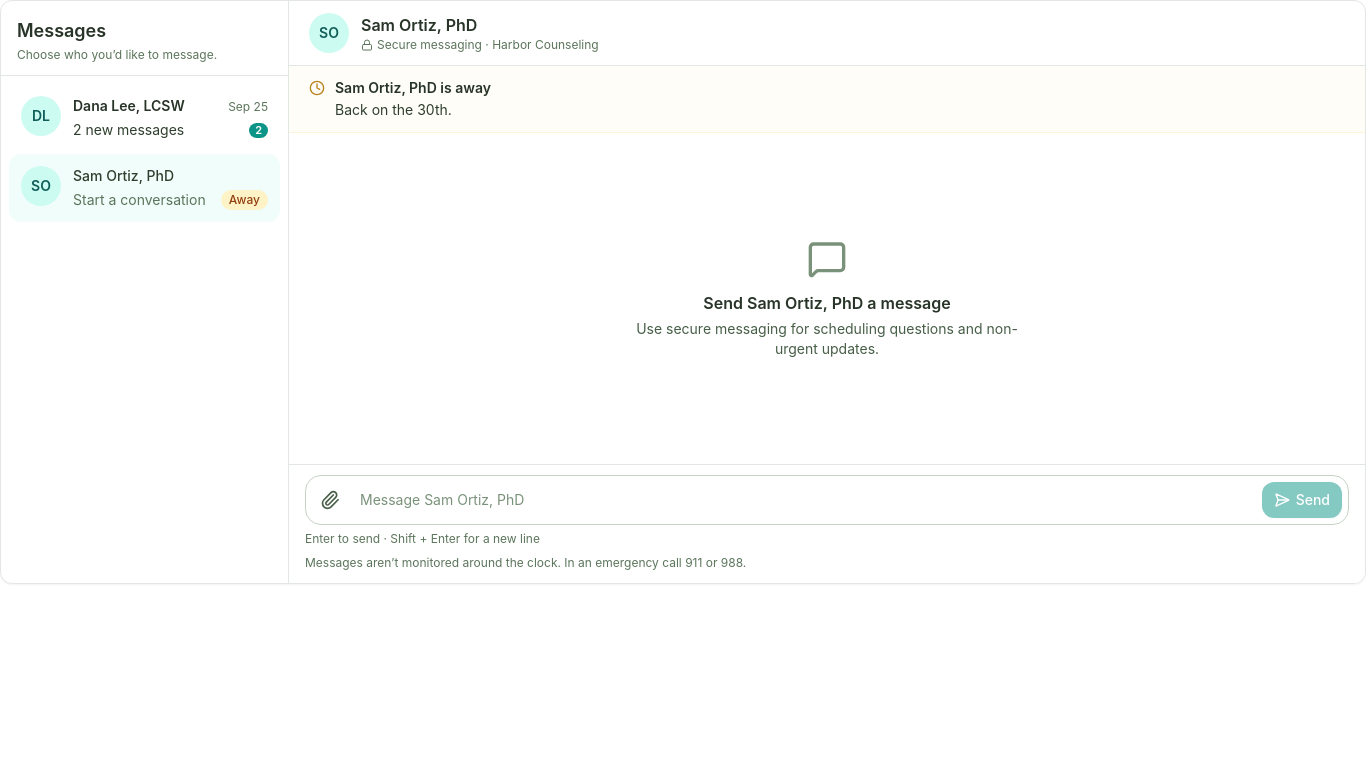
Scenario: ClientMessagesPage › with several clinicians › starts a conversation with a care-team clinician on the first message
expect the heading "Send Sam Ortiz, PhD a message" is shown: met, box [703,290,951,314]
expect the text "Sam Ortiz, PhD is away" is shown: met, box [335,78,491,98]
Type "Hello Dr. Ortiz" into the text box labelled "Message". click: (805, 500)
box: [354,482,1256,518]
Then press Enter
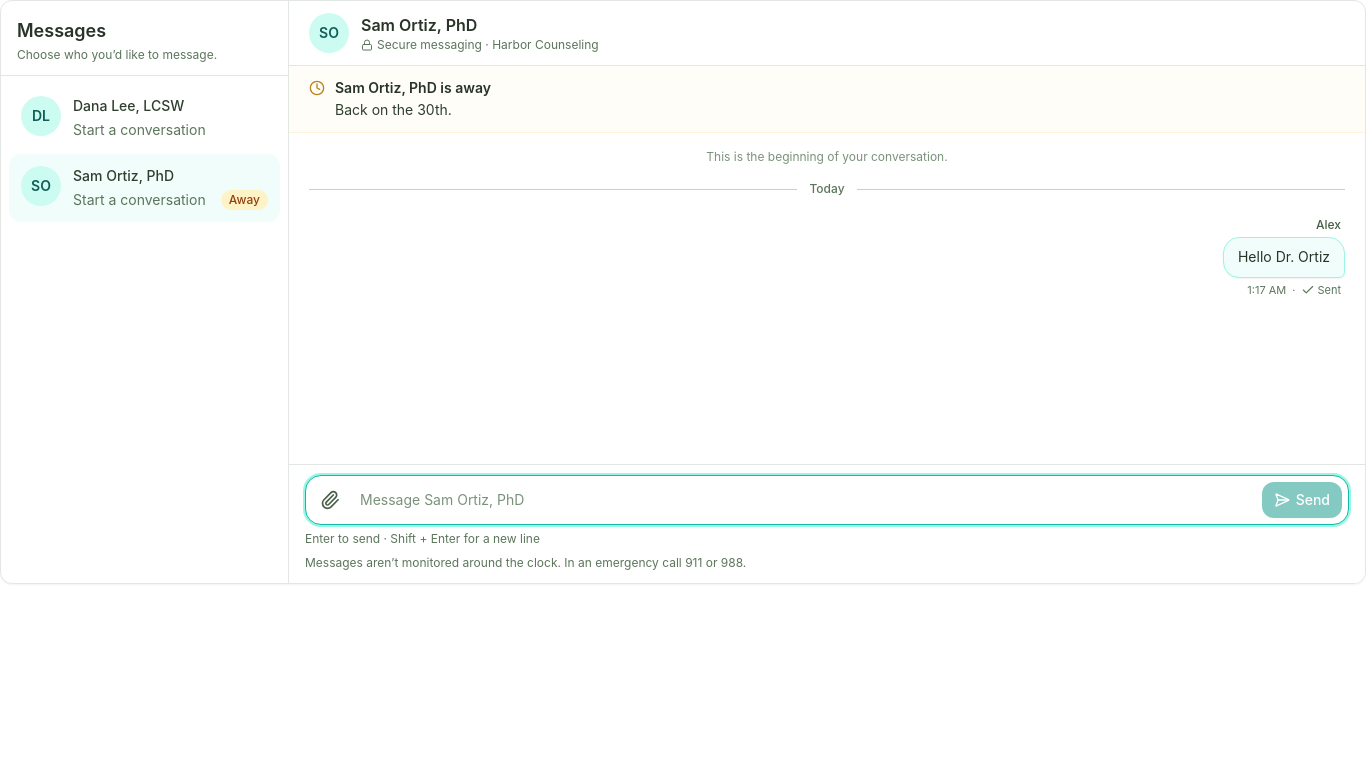
expect the text "Hello Dr. Ortiz" is shown: met, box [1238,246,1330,269]
